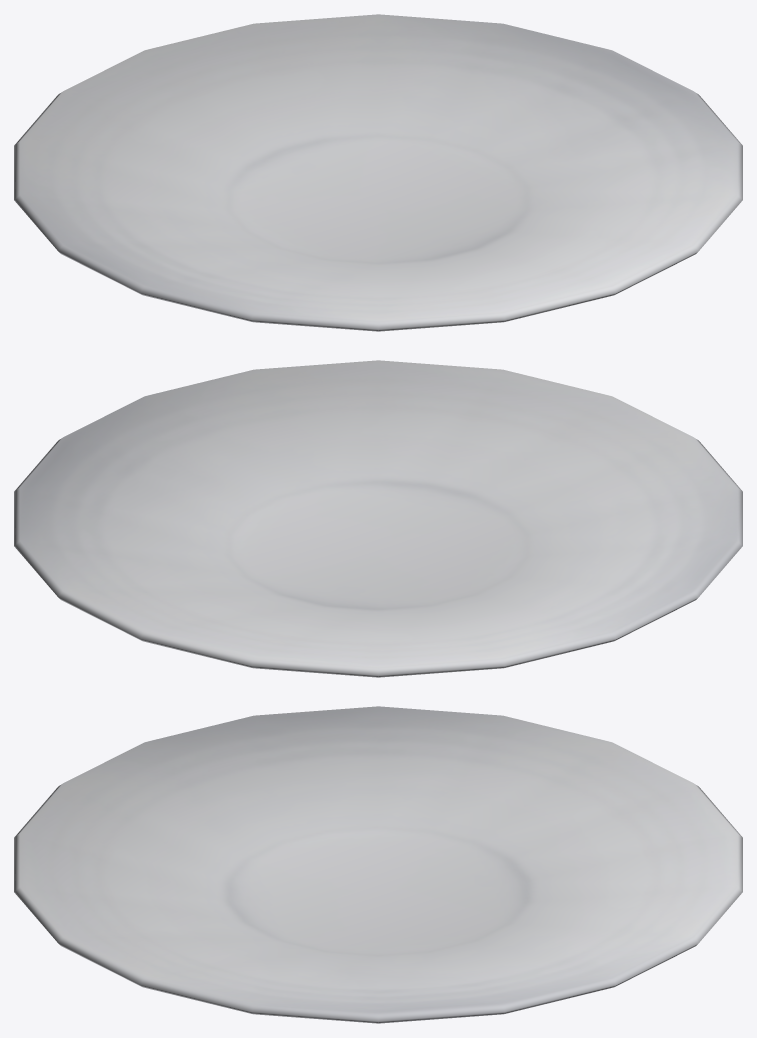
File: CafeFood01_7.FBX
3 views of the same model, one above another, from view 1: azimuth 30°, elevation 25°; view 2: azimuth 150°, elevation 25°; view 3: azimuth 270°, elevation 25° (orthographic).
Visible parts, largest first — view 1: CafeFood01_7; view 2: CafeFood01_7; view 3: CafeFood01_7.
Part boxes in pixels (x1,y1,x2,y2): CafeFood01_7: (14,14,742,331); CafeFood01_7: (14,360,742,677); CafeFood01_7: (14,706,742,1023).
Size of what is drawn, in the model's own units: 0.355 by 0.0277 by 0.3496.
